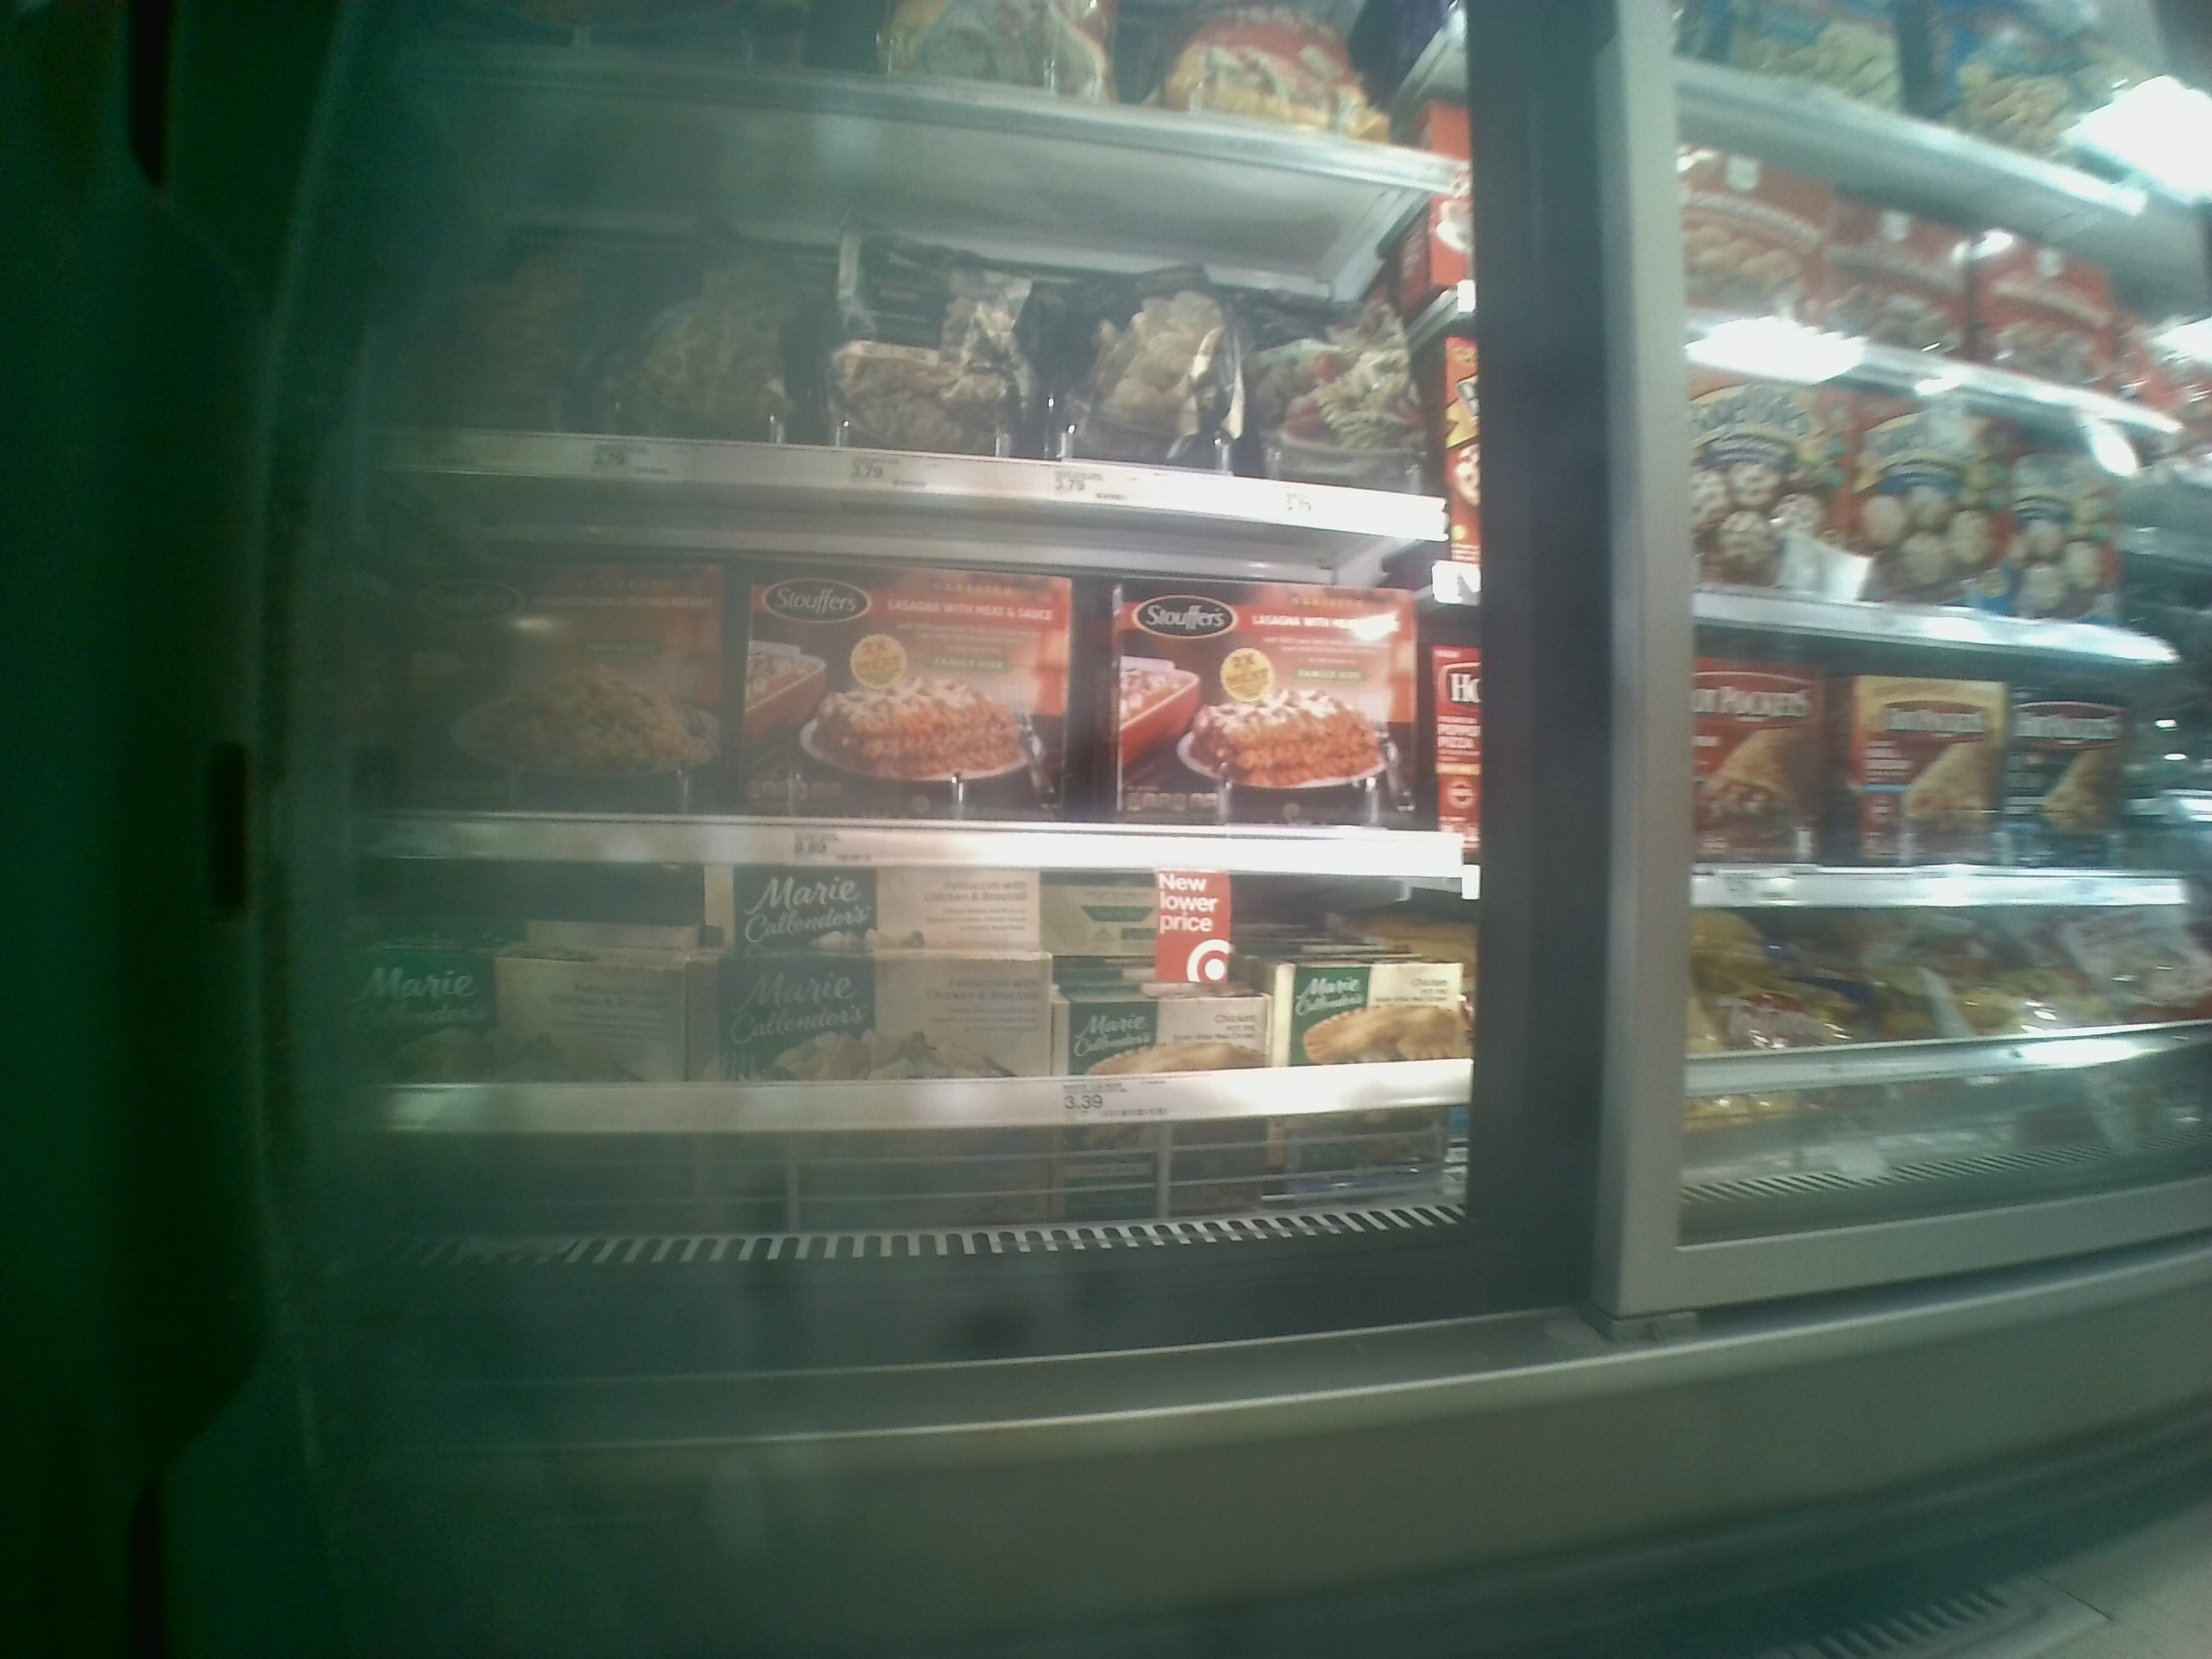shelf: (322, 197, 1453, 547), (348, 556, 1479, 871), (348, 864, 1467, 1105)
